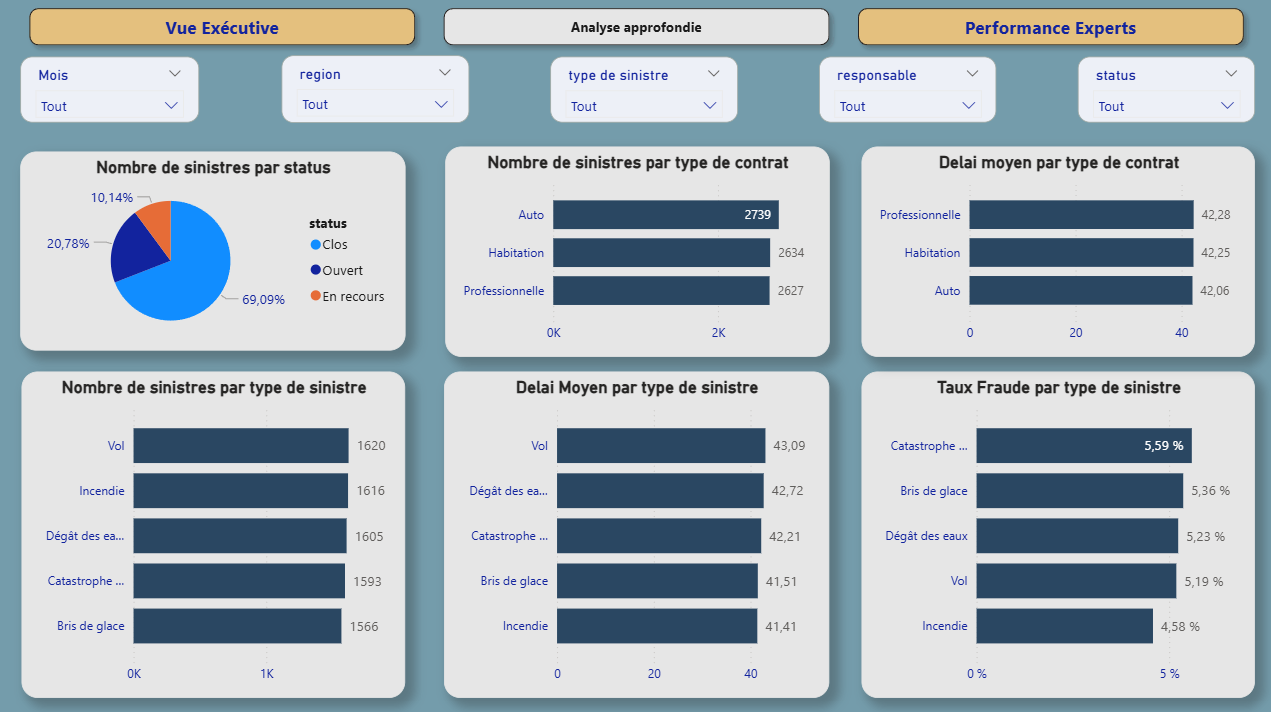

Layout of this report page (visuals, bound fields, positions):
{"tool":"powerbi","page":{"name":"Analyse approfondie","canvas":[1280,720],"ordinal":1},"visuals":[{"type":"clusteredBarChart","title":"Nombre de sinistres par type de sinistre","fields":{"Y":["_mesures.Nb Sinistres"],"Category":["claim_type.claim_type"]},"box":[27.3,369.7,380.9,323.8],"z":0},{"type":"clusteredBarChart","title":"Nombre de sinistres par type de contrat","fields":{"Category":["policy.policy_type"],"Y":["_mesures.Nb Sinistres"]},"box":[447.6,146,381.2,208.7],"z":1000},{"type":"pieChart","title":"Nombre de sinistres par status","fields":{"Category":["sinistres.status"],"Y":["_mesures.Nb Sinistres"]},"box":[26.1,151.3,382.1,197.2],"z":2000},{"type":"clusteredBarChart","title":"Delai Moyen par type de sinistre","fields":{"Category":["claim_type.claim_type"],"Y":["_mesures.Delai Moyen"]},"box":[446.6,369.7,382.1,323.8],"z":3000},{"type":"clusteredBarChart","title":"Taux Fraude par type de sinistre","fields":{"Category":["claim_type.claim_type"],"Y":["_mesures.Taux Fraude"]},"box":[860.9,369.7,390.8,323.8],"z":4000},{"type":"slicer","fields":{"Values":["Calendar.Mois"]},"box":[26.1,57.1,177.4,65.7],"z":5000},{"type":"slicer","fields":{"Values":["regions.region"]},"box":[285.3,55.8,186.1,67],"z":6000},{"type":"slicer","fields":{"Values":["claim_type.claim_type"]},"box":[552,57.1,186.1,65.7],"z":7000},{"type":"slicer","fields":{"Values":["regions.responsable"]},"box":[818.8,57.1,176.2,65.7],"z":8000},{"type":"slicer","fields":{"Values":["sinistres.status"]},"box":[1075.6,57.1,176.2,65.7],"z":9000},{"type":"clusteredBarChart","title":"Delai moyen par type de contrat","fields":{"Category":["policy.policy_type"],"Y":["_mesures.Delai Moyen"]},"box":[860.9,146.4,390.8,208.4],"z":10000},{"type":"pageNavigator","box":[26.1,0,1225.7,55.8],"z":10001}]}

Visuals, with their boxes in screenshot pixels (x1, y1, x2, y2), scaled from the page's 1280x720 canvas onto the 1271x712 screenshot:
"Nombre de sinistres par type de sinistre" clusteredBarChart: l=27, t=366, r=405, b=686
"Nombre de sinistres par type de contrat" clusteredBarChart: l=444, t=144, r=823, b=351
"Nombre de sinistres par status" pieChart: l=26, t=150, r=405, b=345
"Delai Moyen par type de sinistre" clusteredBarChart: l=443, t=366, r=823, b=686
"Taux Fraude par type de sinistre" clusteredBarChart: l=855, t=366, r=1243, b=686
slicer - Calendar.Mois: l=26, t=56, r=202, b=121
slicer - regions.region: l=283, t=55, r=468, b=121
slicer - claim_type.claim_type: l=548, t=56, r=733, b=121
slicer - regions.responsable: l=813, t=56, r=988, b=121
slicer - sinistres.status: l=1068, t=56, r=1243, b=121
"Delai moyen par type de contrat" clusteredBarChart: l=855, t=145, r=1243, b=351
pageNavigator: l=26, t=0, r=1243, b=55
